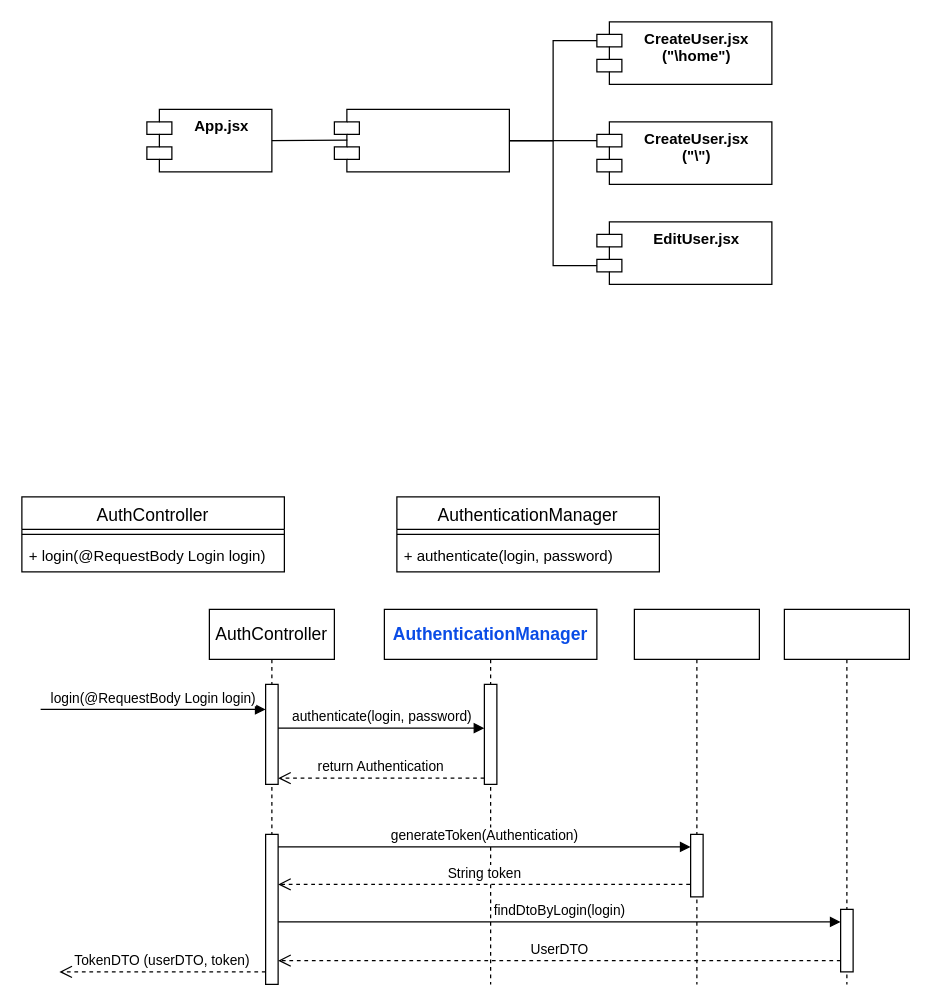
This 931x1006 diagram has some shape labels left out. Here are the shapes that lost their labels. From the top down, the box of each, then its label:
(333, 108, 509, 172): AppRoutes.jsx
(633, 608, 759, 984): JwtService
(783, 608, 909, 984): UserService
